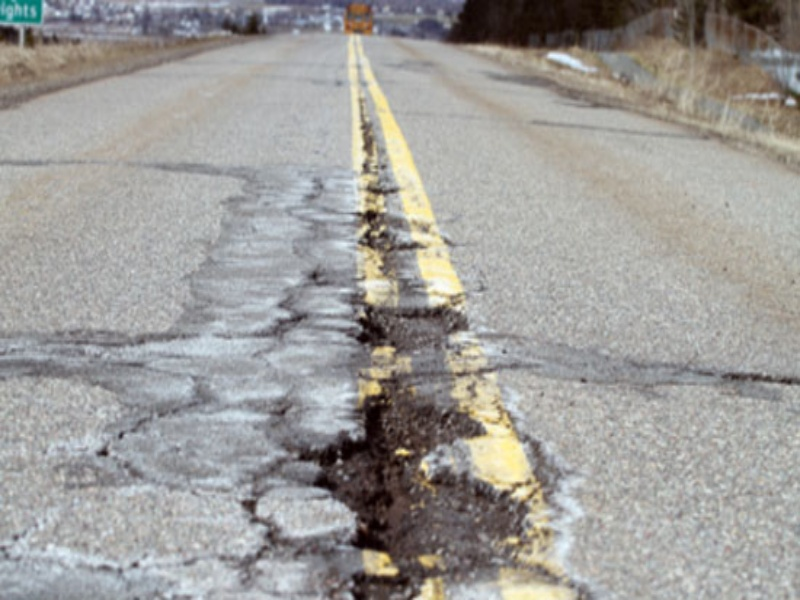pothole: (319, 390, 527, 564), (350, 299, 475, 357), (351, 207, 450, 259)
